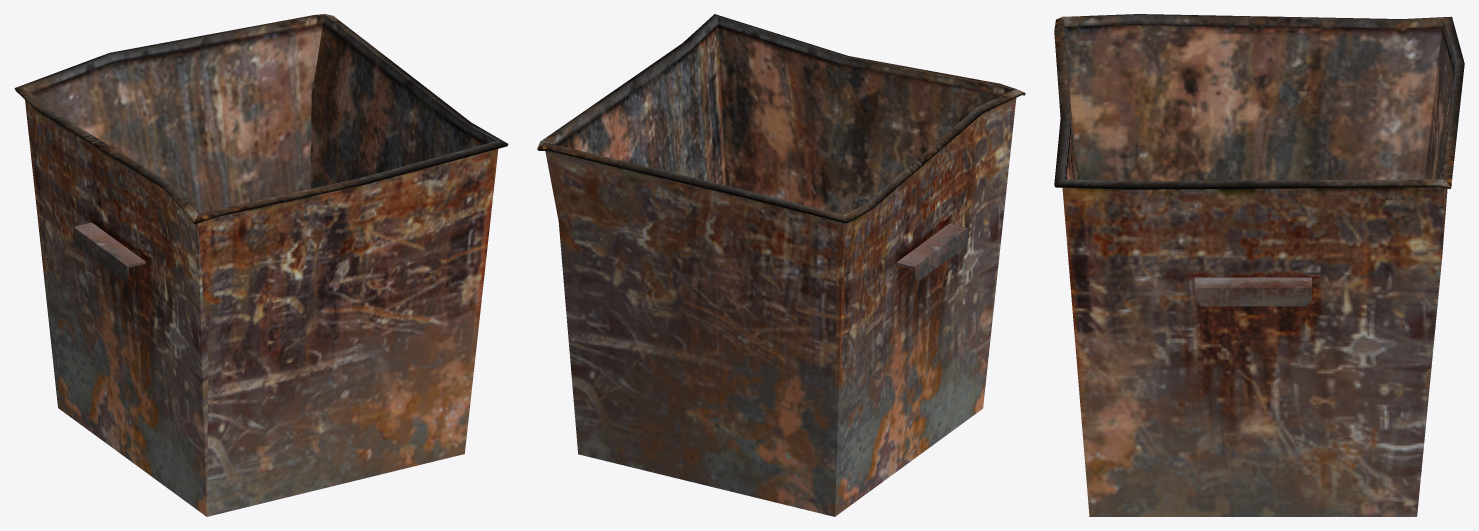
File: trash_box.FBX
3 views of the same model, side by side, from view 1: azimuth 30°, elevation 25°; view 2: azimuth 150°, elevation 25°; view 3: azimuth 270°, elevation 25° (orthographic). The views are drawn at different scales.
Visible parts, largest first — view 1: garbagecontainer; view 2: garbagecontainer; view 3: garbagecontainer.
Part boxes in pixels (x1=…): garbagecontainer: x1=14, y1=14, x2=508, y2=516; garbagecontainer: x1=537, y1=14, x2=1025, y2=516; garbagecontainer: x1=1054, y1=14, x2=1464, y2=516.
Bounding box in the file's own units: 0.65 × 0.62 × 0.648.
